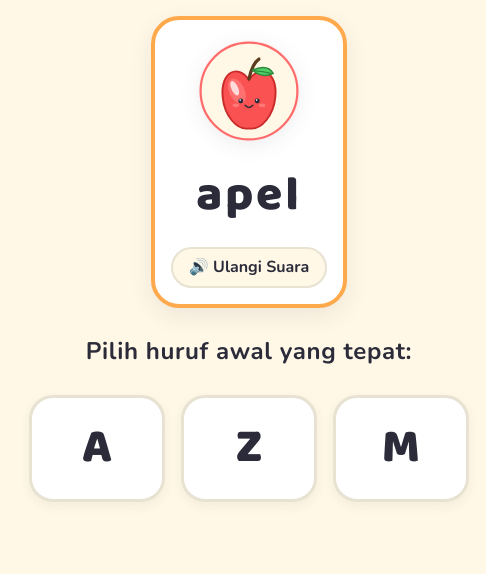
Test: Page responsiveness regressions › keeps the sound activity stable instead of restarting its initialization on every render
Click the button named "Pilih huruf A" at (97, 448), box [29,395,165,502]
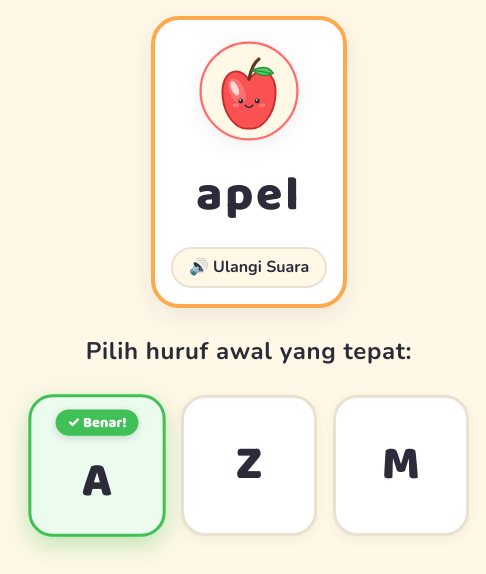
Expected: the text "✓ Benar!" is shown, [55,409,139,436]
